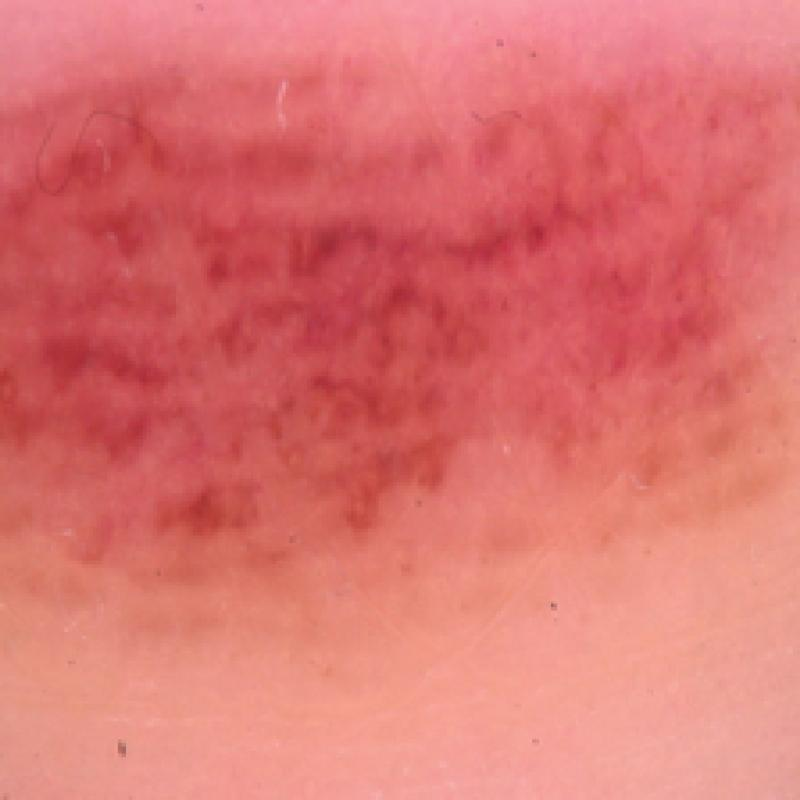benign: (0, 88, 784, 540)
